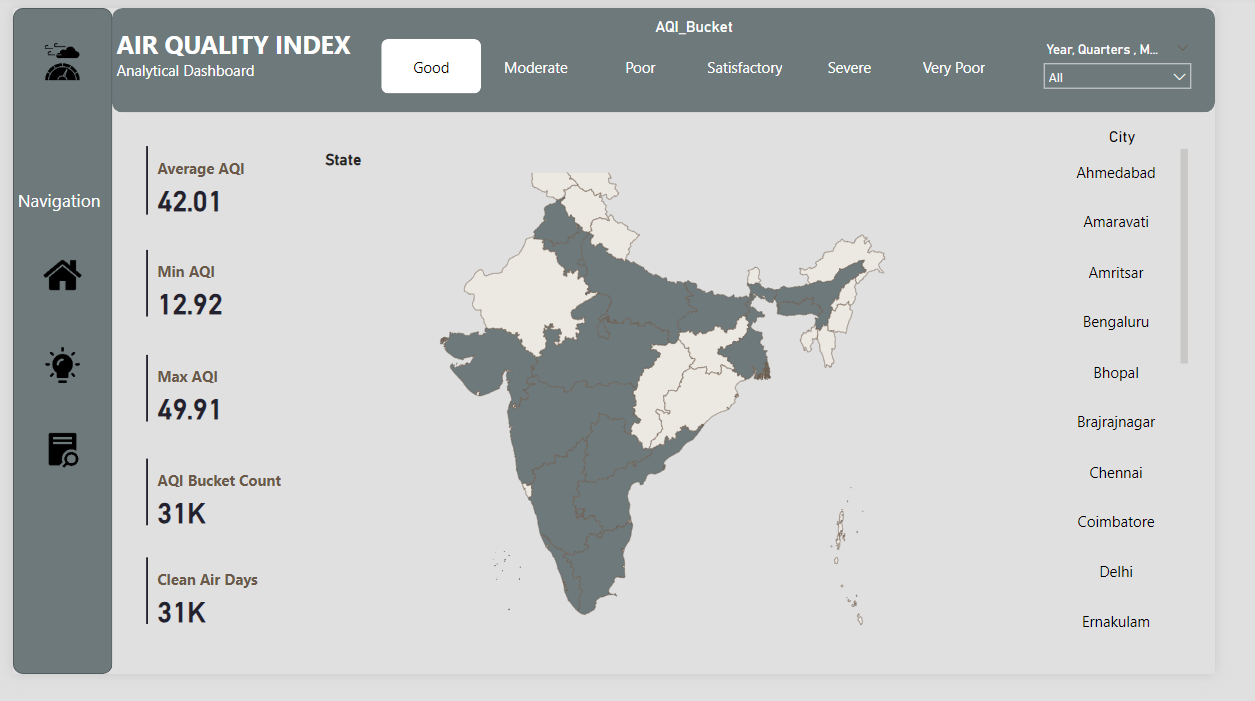

The dashboard page shown, as its layout file describes it:
{"tool":"powerbi","page":{"name":"Home","canvas":[1300,720],"ordinal":0},"visuals":[{"type":"shape","box":[107.2,0,1192.8,113],"z":0},{"type":"shape","box":[0,0,107.5,720],"z":1000},{"type":"shape","box":[1103.7,128.4,196.3,591.4],"z":2000},{"type":"shapeMap","fields":{"Category":["air_quality.State"]},"box":[332.1,154.3,719.8,532.1],"z":4000},{"type":"advancedSlicerVisual","fields":{"Values":["air_quality.City"]},"box":[1122.5,128.8,152.5,563.8],"z":5000},{"type":"cardVisual","fields":{"Data":["measure.Clean Air Days"]},"box":[134.6,585.2,155.6,88.9],"z":6000},{"type":"cardVisual","fields":{"Data":["measure.Bucket Count"]},"box":[135.1,477.9,176.6,88.3],"z":7000},{"type":"cardVisual","fields":{"Data":["measure.Average AQI"]},"box":[134.6,140.7,155.6,90.1],"z":8000},{"type":"cardVisual","fields":{"Data":["measure.Min AQI"]},"box":[134.6,253.1,155.6,88.9],"z":9000},{"type":"cardVisual","fields":{"Data":["measure.Max AQI"]},"box":[134.6,366.7,144.4,88.9],"z":10000},{"type":"slicer","fields":{"Values":["Sheet1.Year","Sheet1.Quarters ","Sheet1.Months "]},"box":[1104.3,30.4,179.7,69.6],"z":12000},{"type":"image","box":[28.2,263.4,50.7,50.7],"z":13000},{"type":"image","box":[28.2,360.6,50.7,50.7],"z":14000},{"type":"image","box":[28.2,452.1,50.7,50.7],"z":15000},{"type":"image","box":[28.4,32.4,50,51.4],"z":16000},{"type":"textbox","box":[0,190.9,107.8,77.9],"z":17000},{"type":"textbox","box":[107.2,15.9,276.8,84.1],"z":17500},{"type":"advancedSlicerVisual","fields":{"Values":["air_quality.AQI_Bucket"]},"box":[393.8,9.9,686.4,88.9],"z":18000}]}

Visuals, with their boxes on the page's 1300x720 design canvas (x1, y1, x2, y2). These are canvas units, not pixel positions in the 1255x701 screenshot, which may show the page scaled, cropped or inside an application window:
shape: l=107, t=0, r=1300, b=113
shape: l=0, t=0, r=108, b=720
shape: l=1104, t=128, r=1300, b=720
shapeMap - air_quality.State: l=332, t=154, r=1052, b=686
advancedSlicerVisual - air_quality.City: l=1122, t=129, r=1275, b=693
cardVisual - measure.Clean Air Days: l=135, t=585, r=290, b=674
cardVisual - measure.Bucket Count: l=135, t=478, r=312, b=566
cardVisual - measure.Average AQI: l=135, t=141, r=290, b=231
cardVisual - measure.Min AQI: l=135, t=253, r=290, b=342
cardVisual - measure.Max AQI: l=135, t=367, r=279, b=456
slicer - Sheet1.Year x Sheet1.Quarters : l=1104, t=30, r=1284, b=100
image: l=28, t=263, r=79, b=314
image: l=28, t=361, r=79, b=411
image: l=28, t=452, r=79, b=503
image: l=28, t=32, r=78, b=84
textbox: l=0, t=191, r=108, b=269
textbox: l=107, t=16, r=384, b=100
advancedSlicerVisual - air_quality.AQI_Bucket: l=394, t=10, r=1080, b=99
